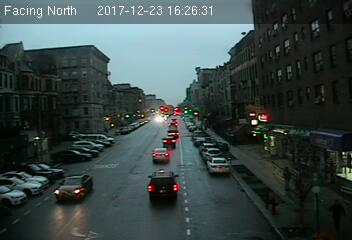car: (54, 173, 94, 205), (145, 170, 180, 200), (205, 156, 231, 174), (151, 148, 170, 162), (162, 136, 177, 149)
